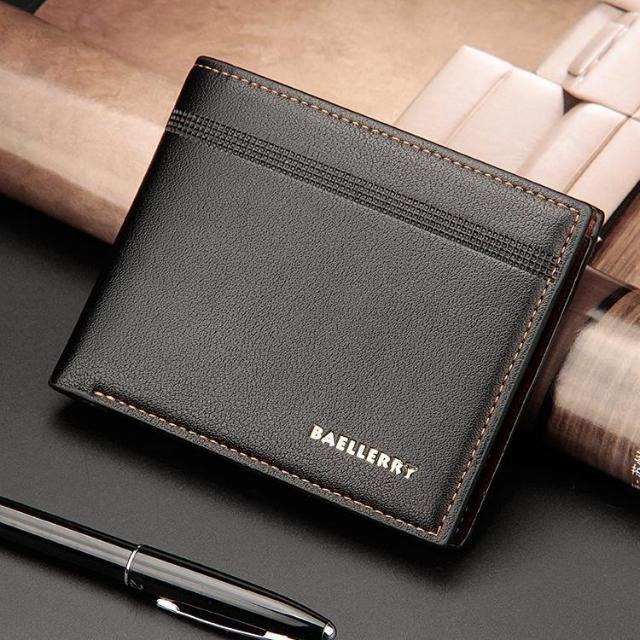wallet: (50, 52, 606, 550)
